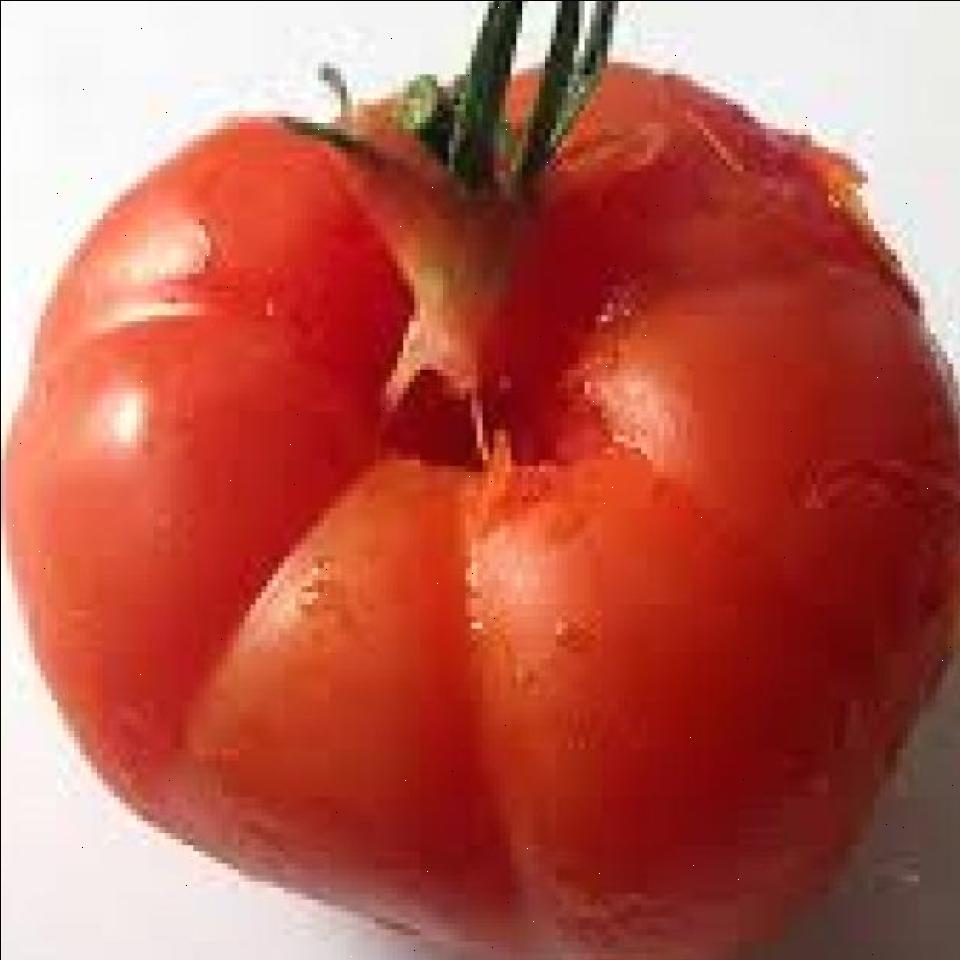Healthy: (1, 56, 960, 959)
